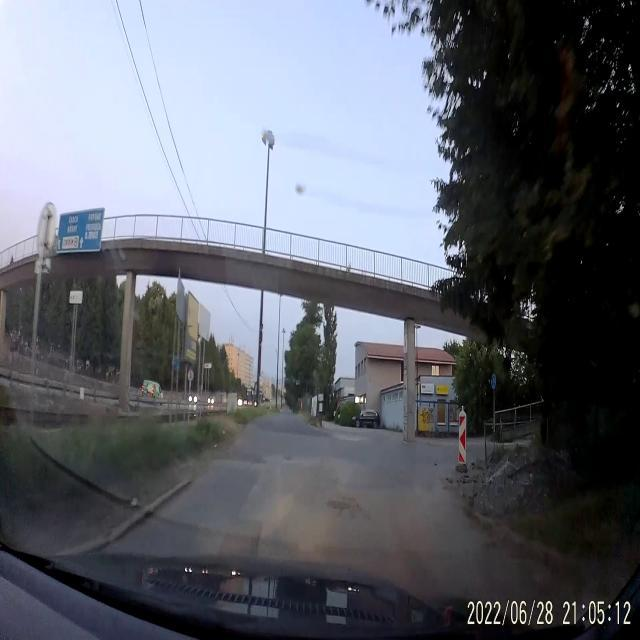Pothole: (325, 493, 362, 522)
